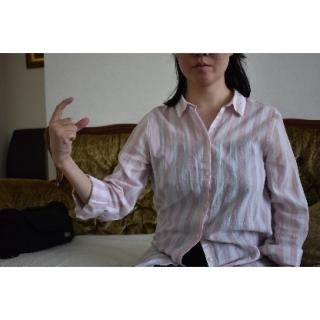DELL: (45, 95, 90, 169)
